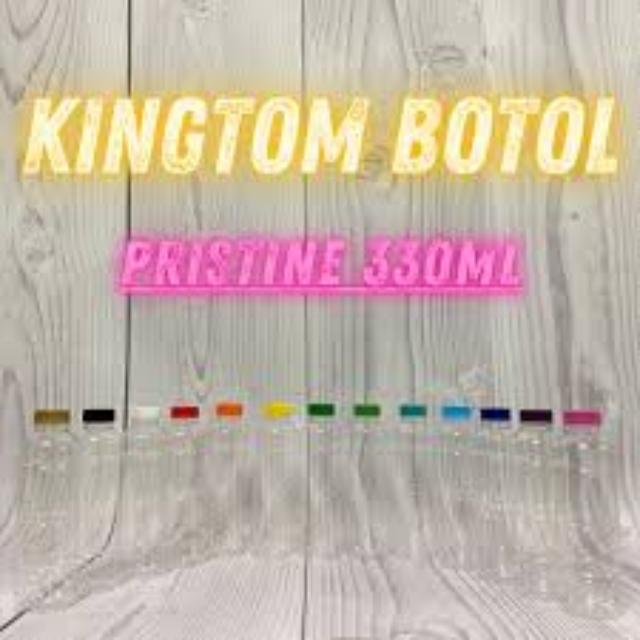trash: (552, 402, 624, 616), (107, 394, 177, 606), (62, 401, 134, 607), (425, 392, 497, 598), (326, 394, 406, 576), (10, 403, 78, 617), (150, 388, 216, 590), (508, 403, 574, 604), (250, 390, 318, 576), (376, 394, 444, 580), (467, 405, 529, 589), (293, 395, 355, 577), (201, 398, 263, 578)
